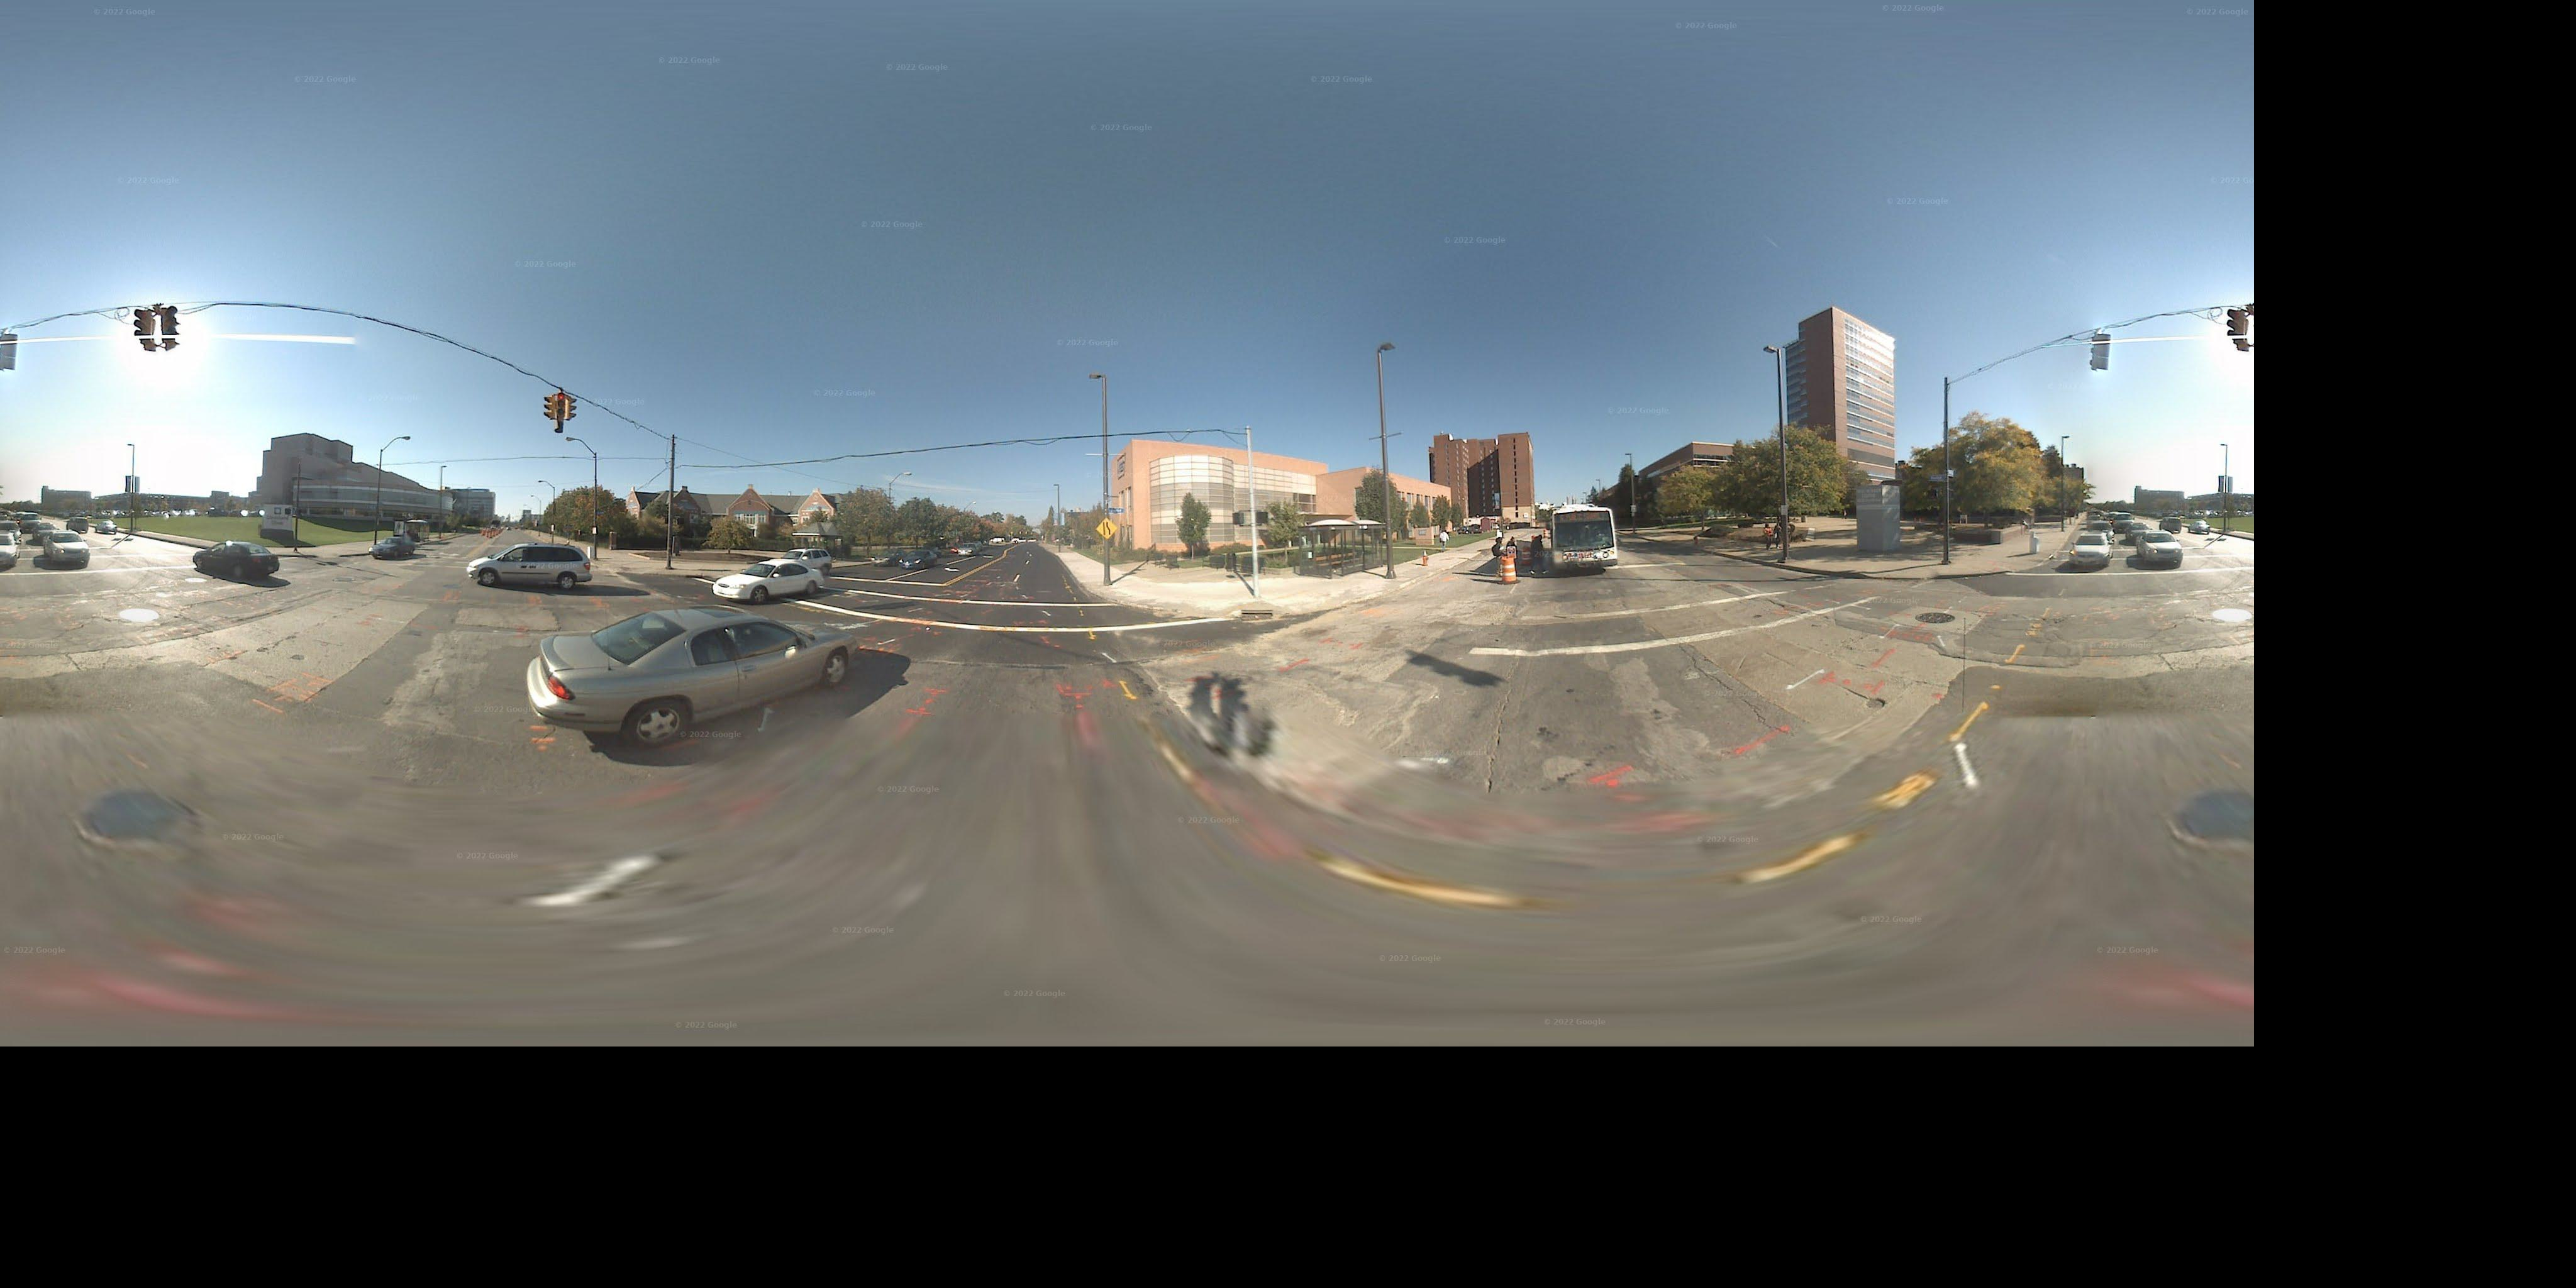Curb Ramp: (310, 547, 343, 562)
Irregular Ramp: (1127, 586, 1203, 631), (1285, 577, 1362, 619), (1873, 565, 1934, 591)
